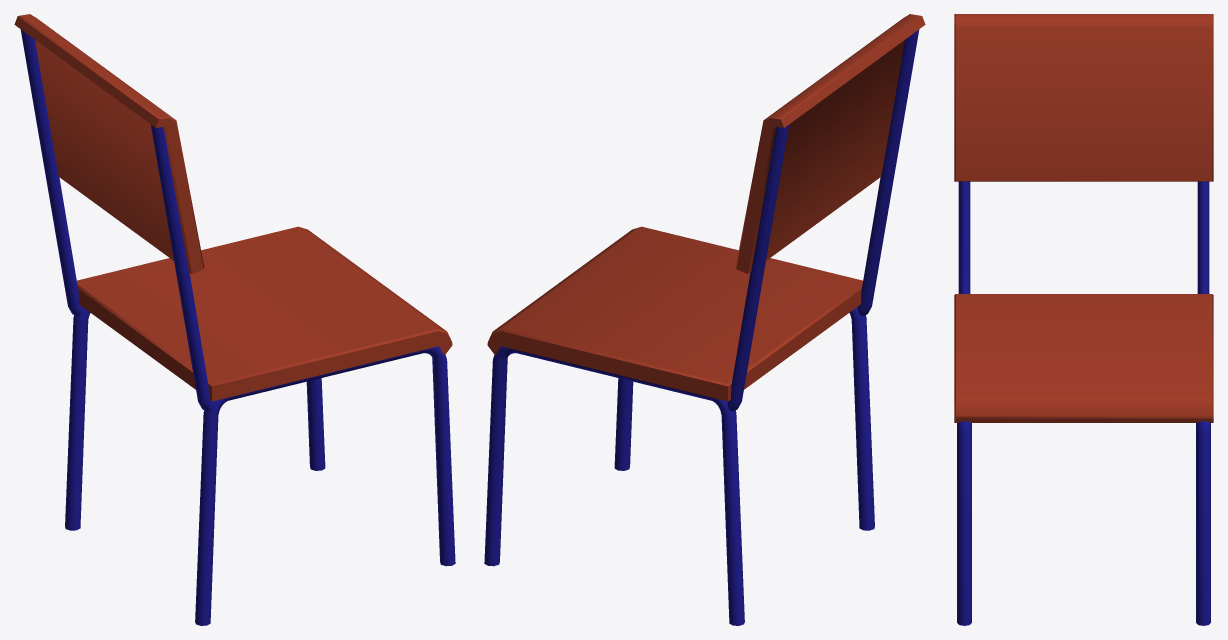
Rendered from WoodChair.fbx.
The picture shows the model from 3 angles, left to right: view 1: azimuth 30°, elevation 25°; view 2: azimuth 150°, elevation 25°; view 3: azimuth 270°, elevation 25°; orthographic projection. The views are drawn at different scales.
Visible parts, largest first — view 1: WoodChair; view 2: WoodChair; view 3: WoodChair.
Part boxes in pixels (<box>): WoodChair: <box>14,14,455,625</box>; WoodChair: <box>484,14,925,625</box>; WoodChair: <box>954,14,1213,625</box>.
Size of the model in its own units: 75.03 by 122 by 60.31.
